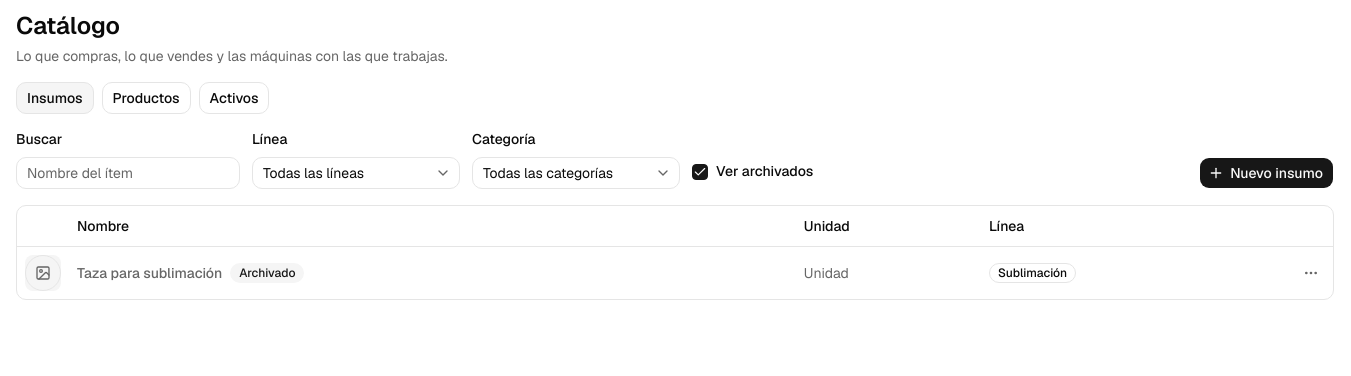
CatalogScreen › un archivado se distingue y solo ofrece verlo o devolverlo
What coordinates should you click on to do the following:
click the button named "Acciones"
I would click on:
 (1311, 273)
Its box is [1297,259,1325,287].
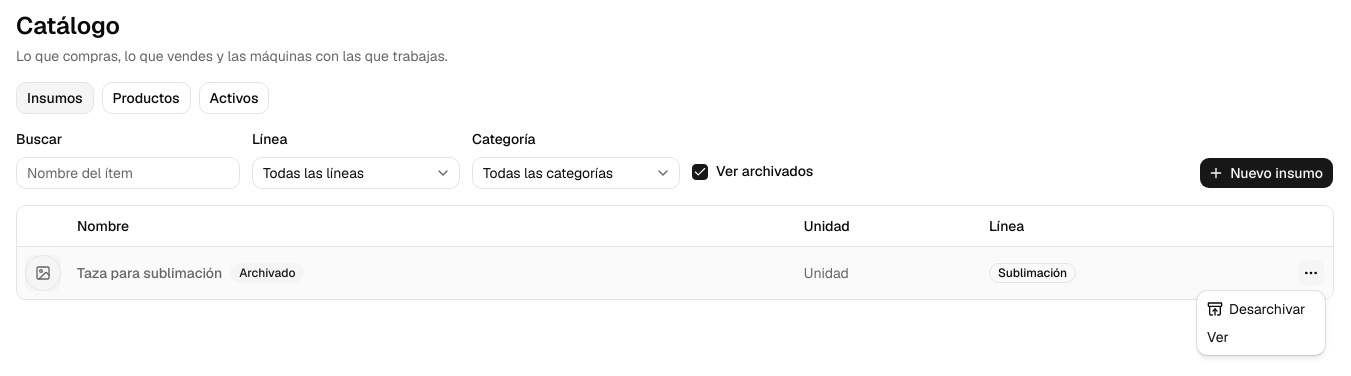
Expected: the menu item "Desarchivar" is shown, [1207,300,1305,318]
